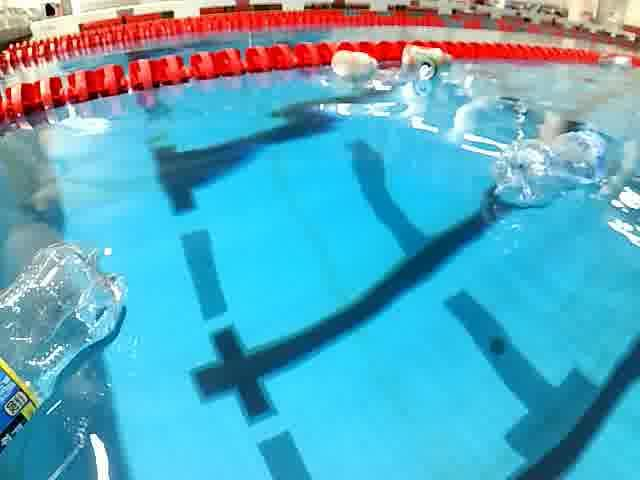Bottle: (0, 234, 130, 466), (488, 122, 622, 210), (327, 46, 387, 76), (398, 45, 456, 69)
Can: (414, 56, 440, 80)
